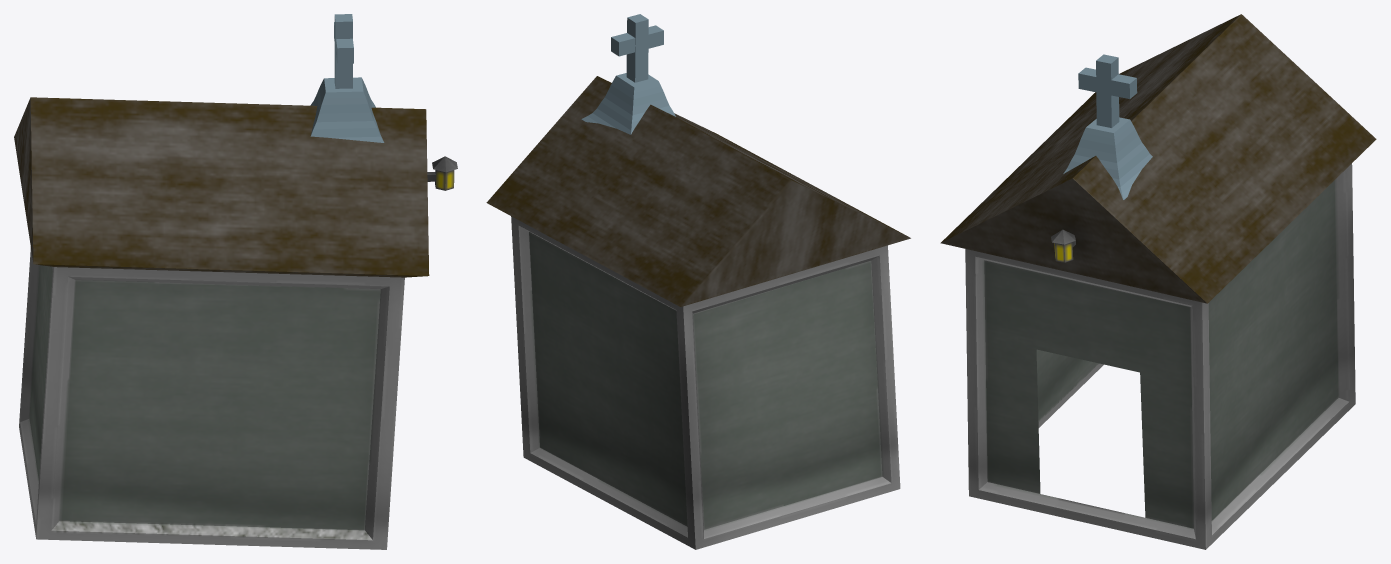
Rendered from chapel.fbx.
3 views of the same model, side by side, from view 1: azimuth 30°, elevation 25°; view 2: azimuth 150°, elevation 25°; view 3: azimuth 270°, elevation 25° (orthographic). The views are drawn at different scales.
Visible parts, largest first — view 1: node_MeshObject1853984576-PolyPaper16; view 2: node_MeshObject1853984576-PolyPaper16; view 3: node_MeshObject1853984576-PolyPaper16.
Boxes of the visible parts, x1=… form: node_MeshObject1853984576-PolyPaper16: x1=14, y1=14, x2=457, y2=549; node_MeshObject1853984576-PolyPaper16: x1=486, y1=14, x2=910, y2=549; node_MeshObject1853984576-PolyPaper16: x1=940, y1=14, x2=1376, y2=549.
Size of the model in its own units: 532 by 566 by 492.
